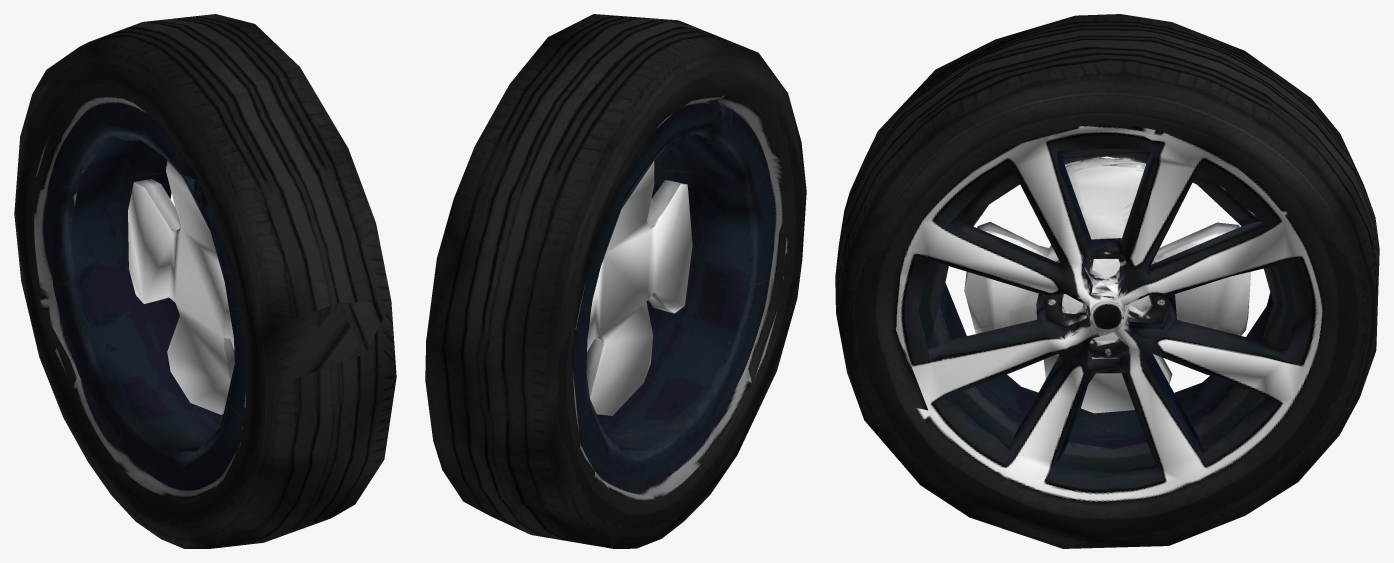
Rendered from kariya_wheel_modern.obj.
3 views of the same model, side by side, from view 1: azimuth 30°, elevation 25°; view 2: azimuth 150°, elevation 25°; view 3: azimuth 270°, elevation 25° (orthographic).
Visible parts, largest first — view 1: wheel; view 2: wheel; view 3: wheel.
Boxes of the visible parts, x1=… form: wheel: x1=14, y1=14, x2=396, y2=548; wheel: x1=425, y1=14, x2=806, y2=548; wheel: x1=835, y1=14, x2=1379, y2=548.
Size of the model in its own units: 0.2057 by 0.6982 by 0.7.
